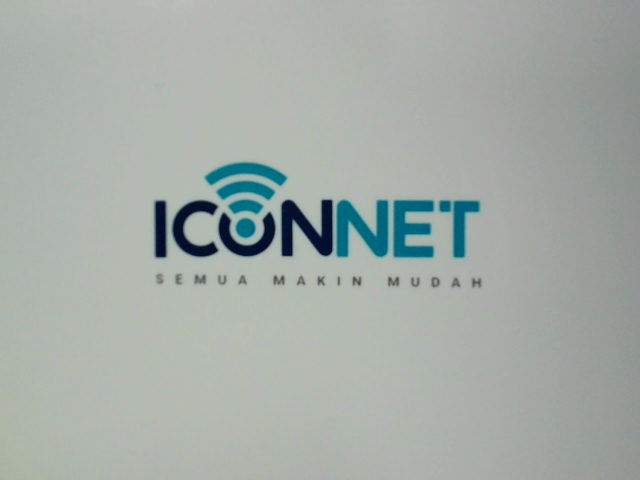BM_ICONNET: (135, 152, 523, 305)
